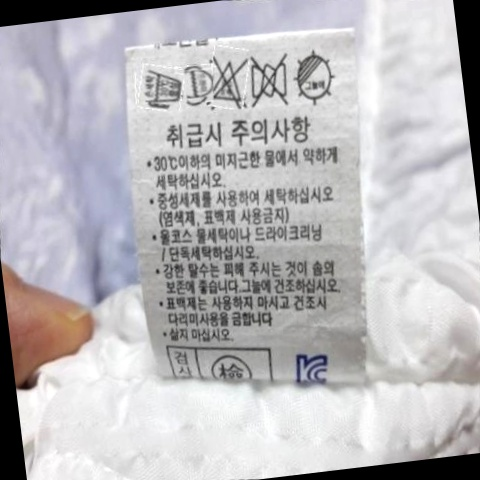DN_wring: (247, 52, 296, 106)
dry_clean: (180, 64, 214, 102)
hand_wash: (138, 62, 186, 109)
non_chlorine_bleach: (208, 53, 249, 107)
shade_dry: (290, 47, 341, 108)
